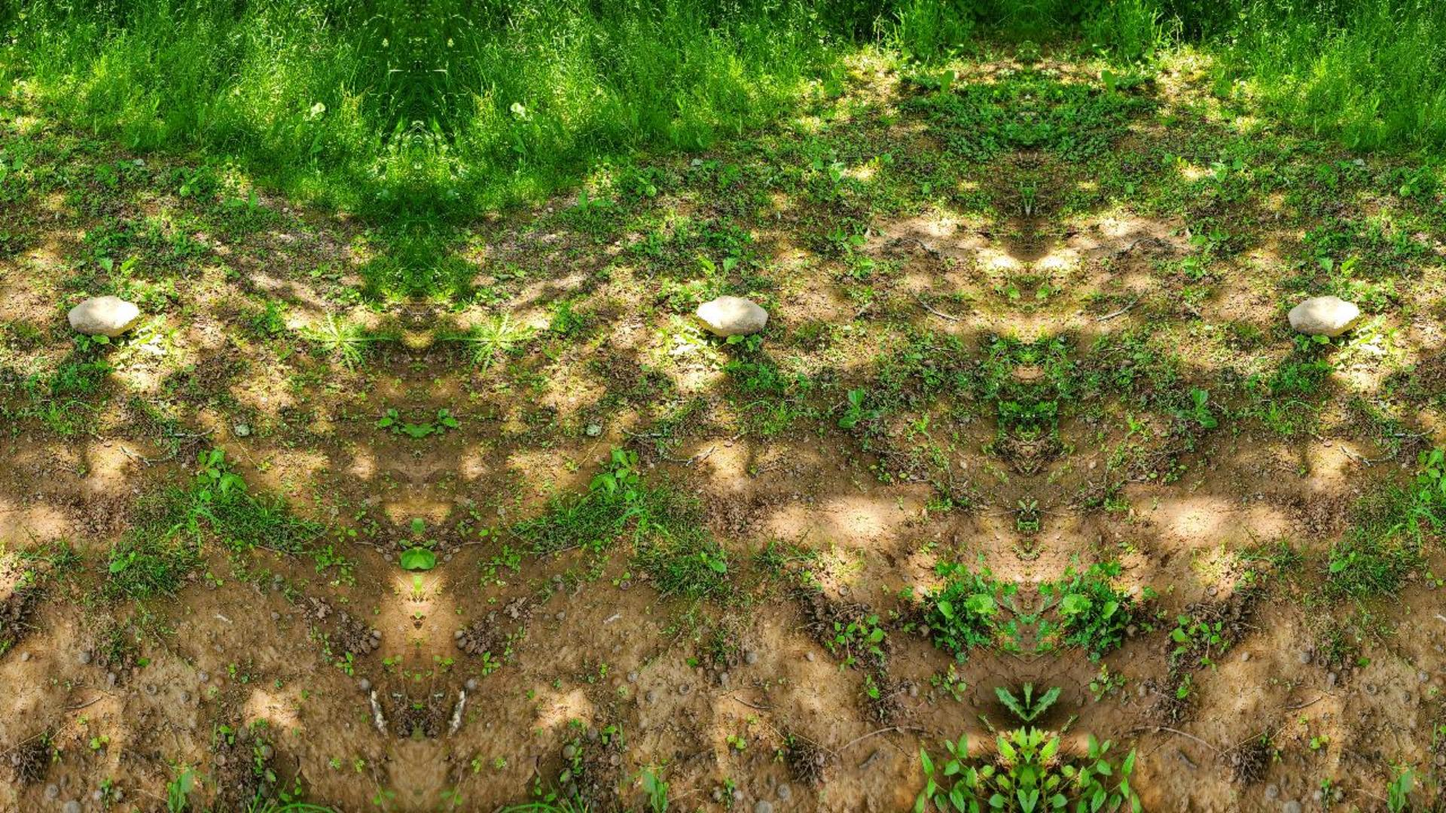rock: (68, 296, 139, 338), (696, 296, 767, 336), (1288, 296, 1359, 336)
